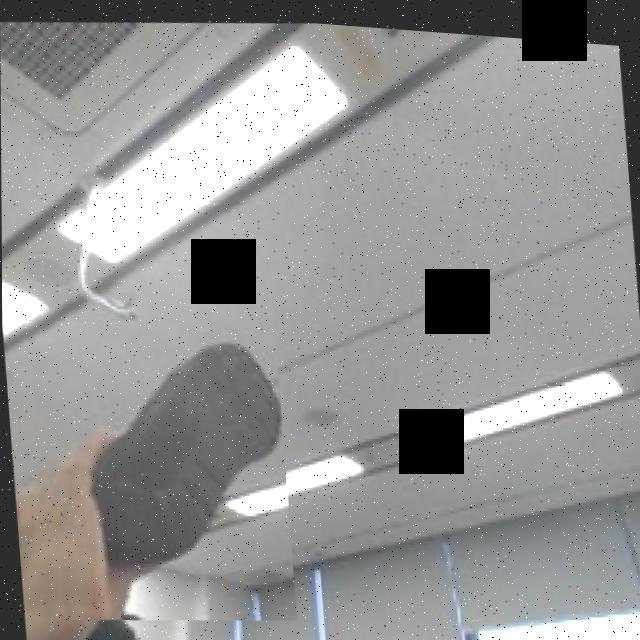shoe: (18, 260, 296, 634)
